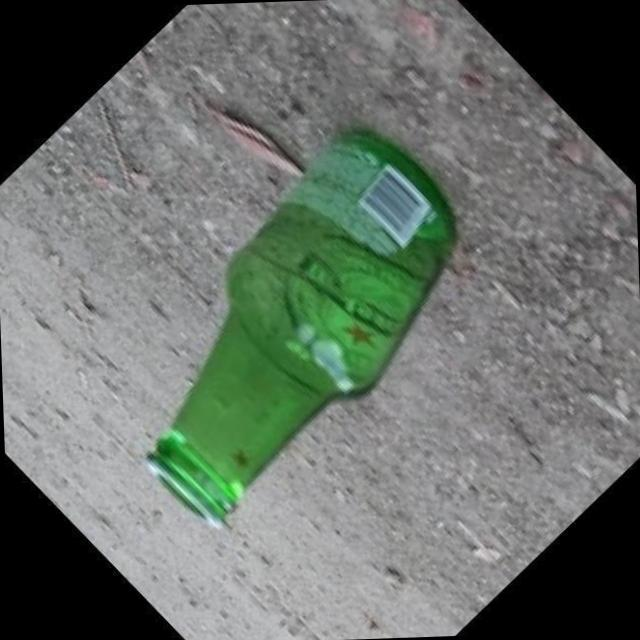BotolKaca: (132, 126, 468, 535)
